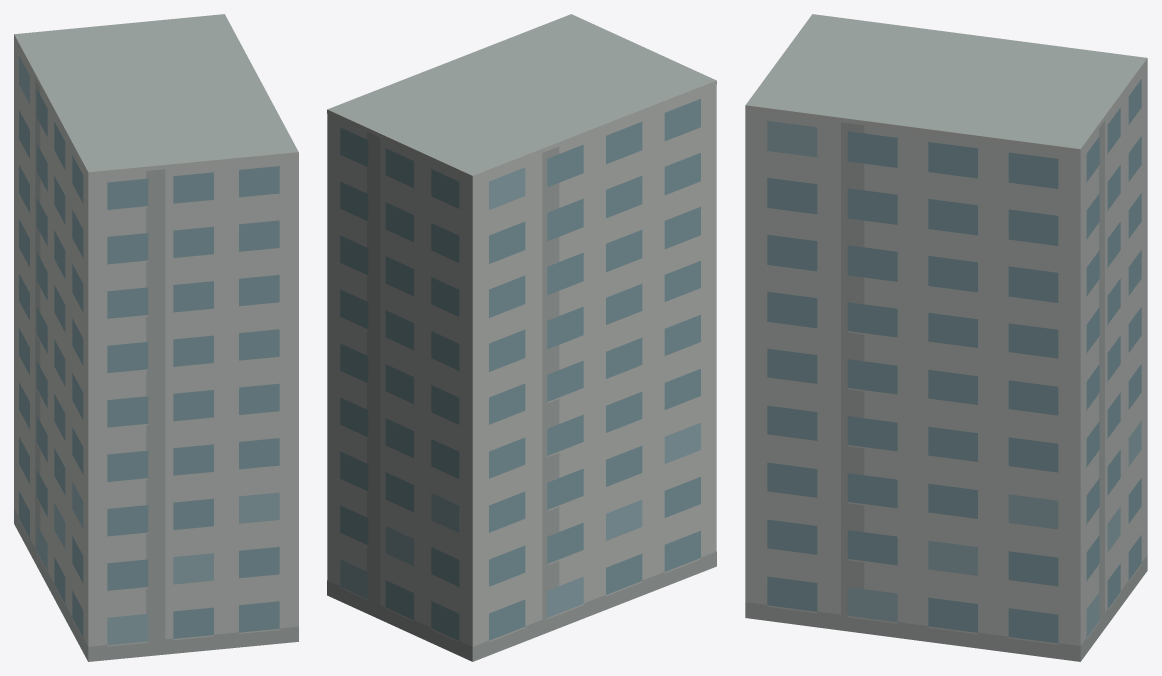
The model's file is residential-17c05832-7b8a-47d2-ab7d-bdb9349afe45.glb.
3 renders of one model, left to right at view 1: azimuth 30°, elevation 25°; view 2: azimuth 150°, elevation 25°; view 3: azimuth 270°, elevation 25°, orthographic. The views are drawn at different scales.
Visible parts, largest first — view 1: residential-17c05832-7b8a-47d2-ab7d-bdb9349afe45.tmp; view 2: residential-17c05832-7b8a-47d2-ab7d-bdb9349afe45.tmp; view 3: residential-17c05832-7b8a-47d2-ab7d-bdb9349afe45.tmp.
Part boxes in pixels (x1,y1,x2,y2): residential-17c05832-7b8a-47d2-ab7d-bdb9349afe45.tmp: (14, 14, 298, 661); residential-17c05832-7b8a-47d2-ab7d-bdb9349afe45.tmp: (327, 14, 716, 661); residential-17c05832-7b8a-47d2-ab7d-bdb9349afe45.tmp: (745, 14, 1147, 661).
Size of the model in its own units: 15.84 by 28 by 19.92.
